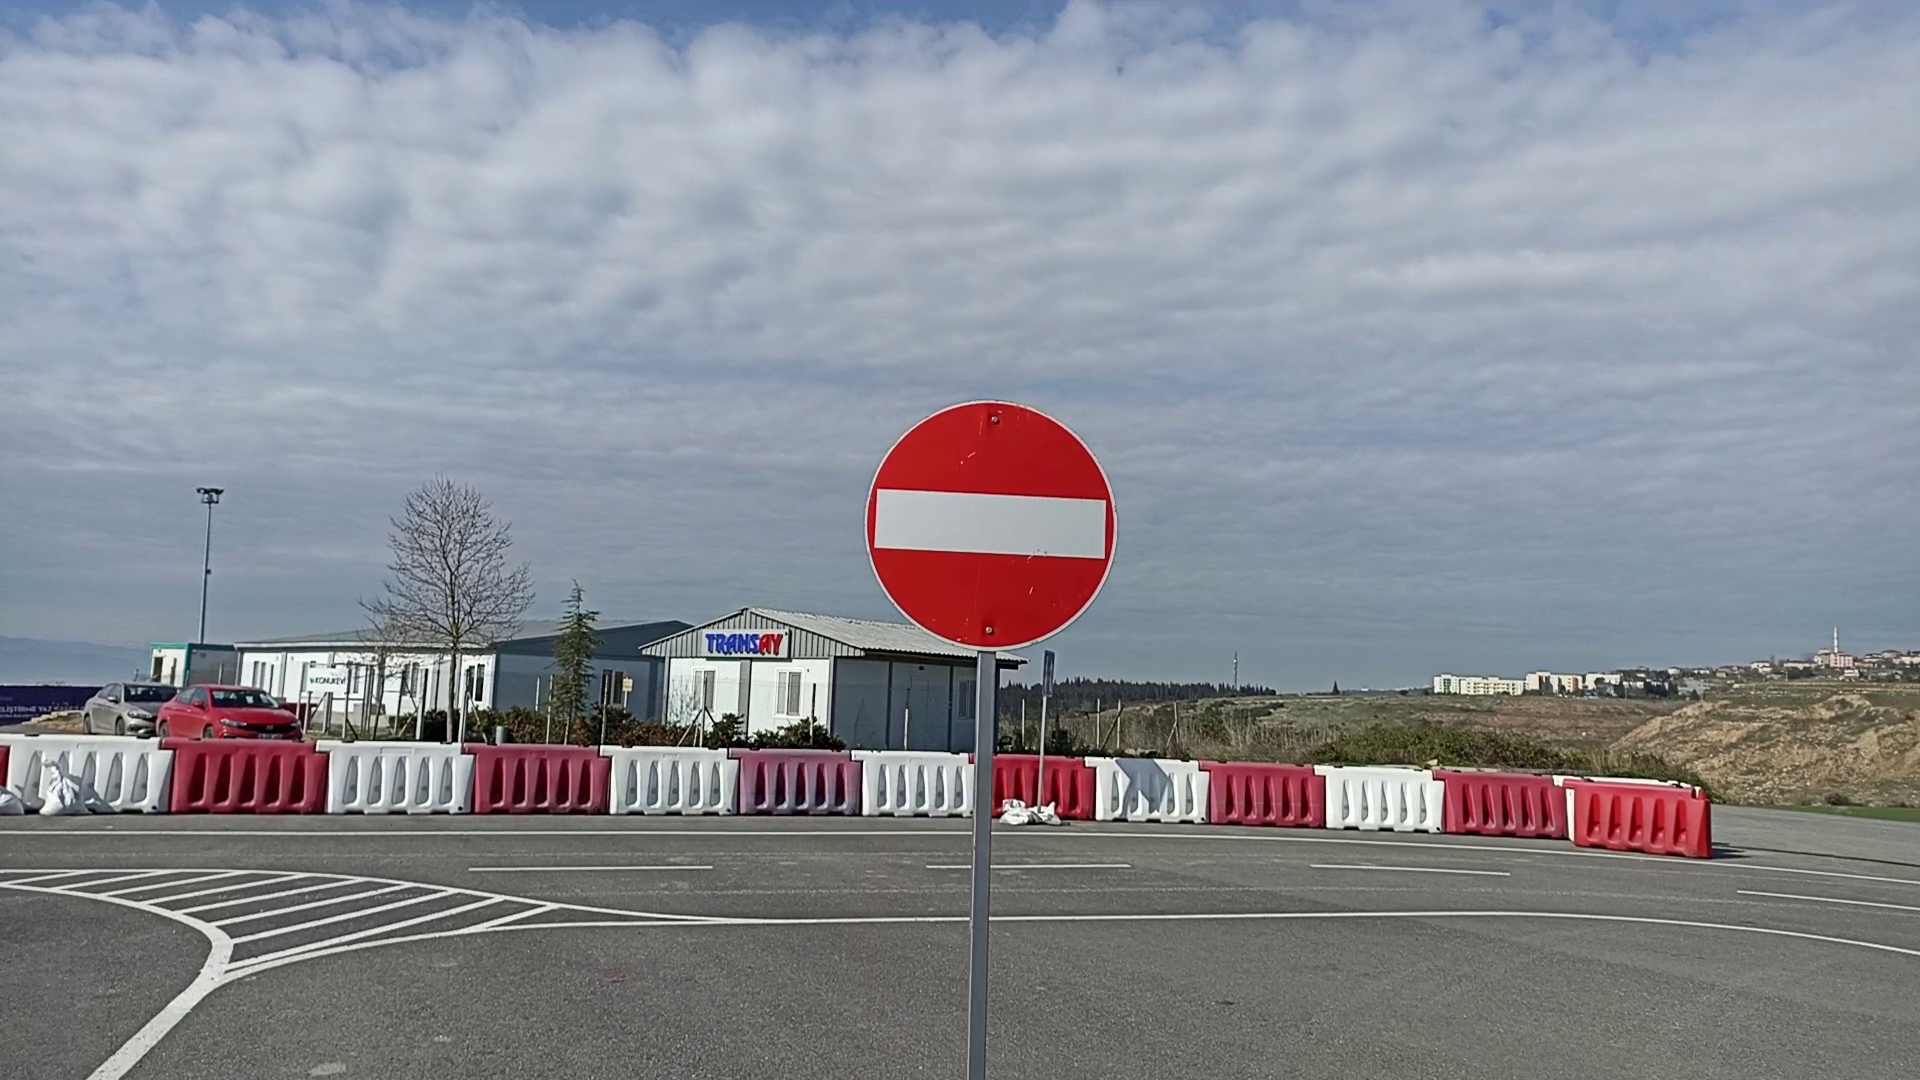noentryway: (858, 393, 1124, 655)
